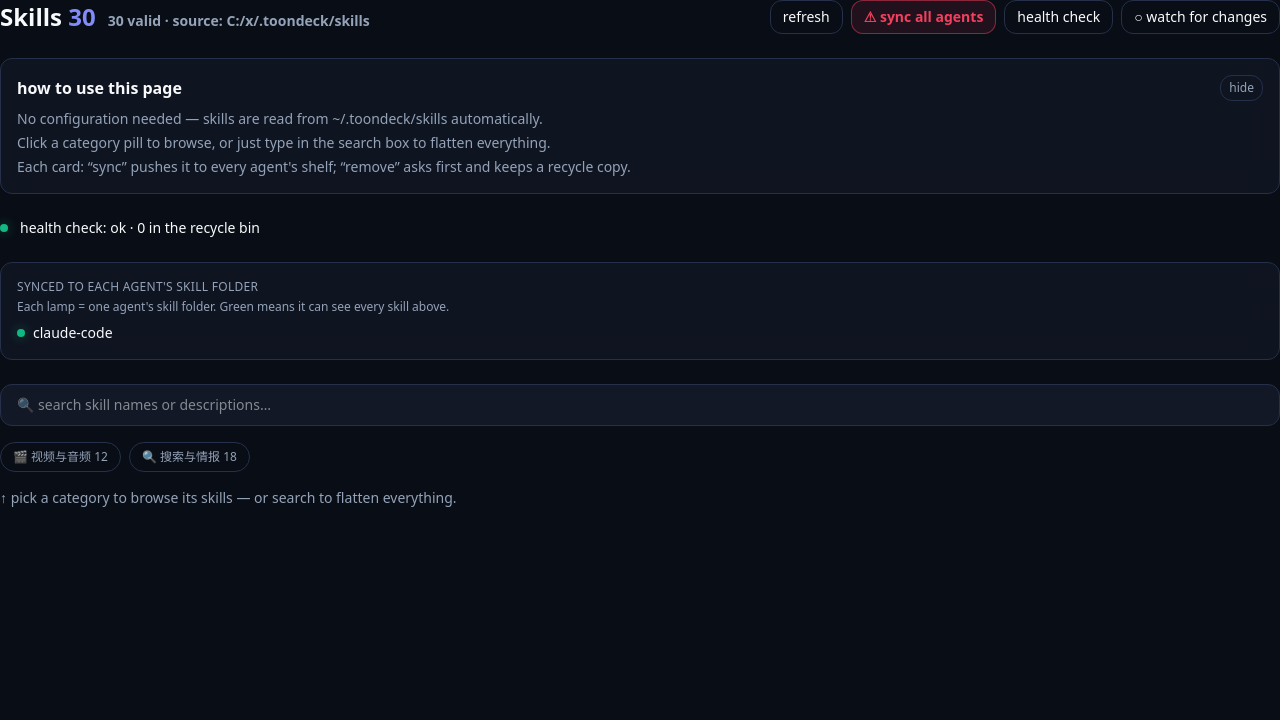
R50: collapsed categories + no naked regex › typing a query flattens matches across all categories
Expected: the text with test id "pick-category" is shown, [0, 488, 457, 507]
Type "search" into the field with placeholder "🔍 search skill names or descriptions…".
click(640, 405); type("search")  # box [0, 384, 1279, 426]
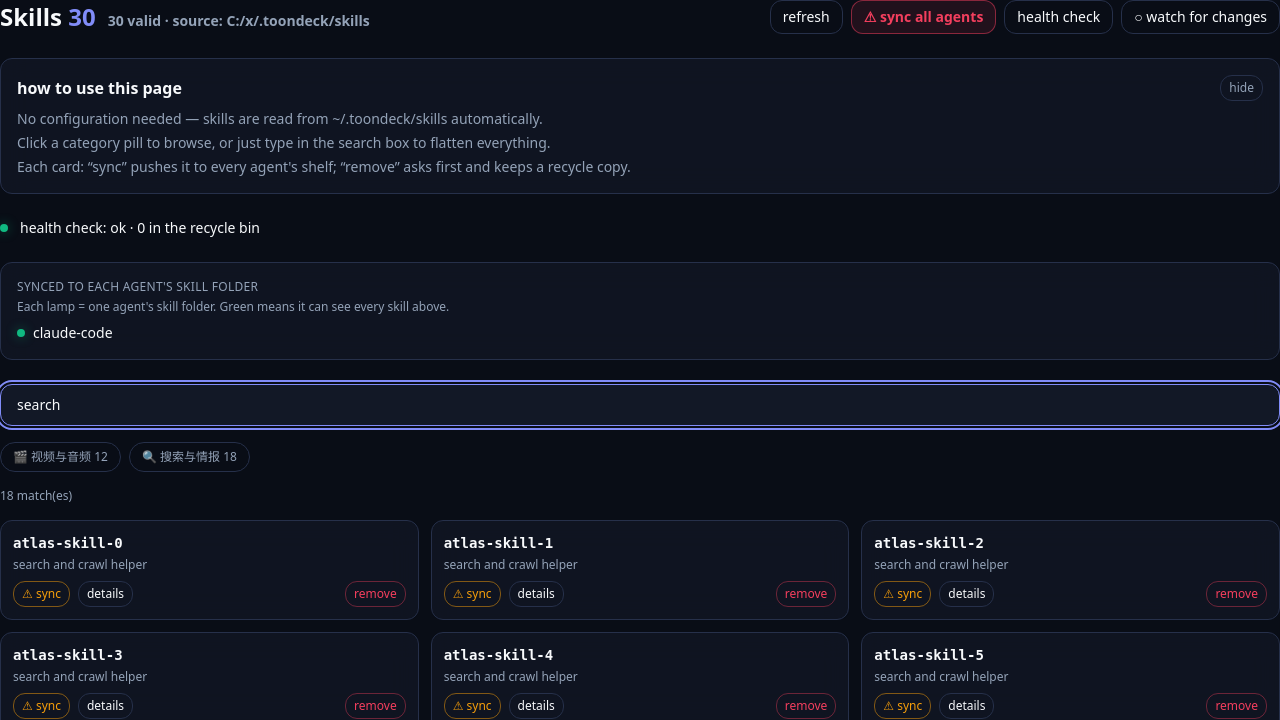
Expected: the text with test id "search-hits" shows "18", [0, 487, 72, 504]
